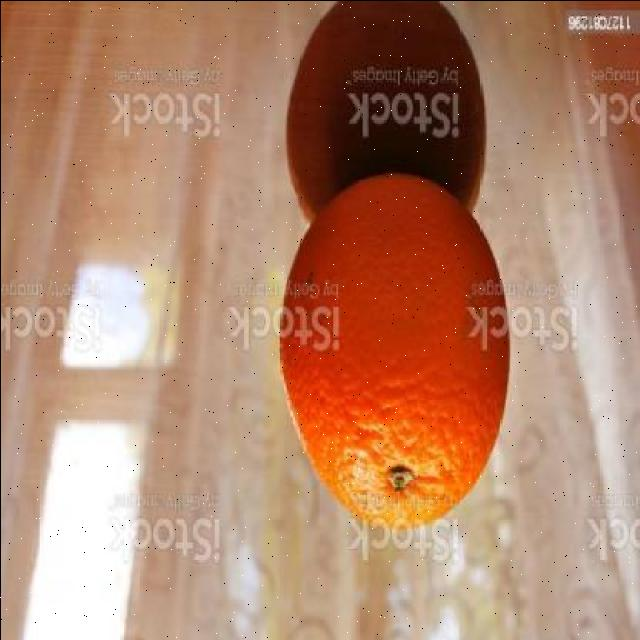Orange: (278, 170, 512, 532)
